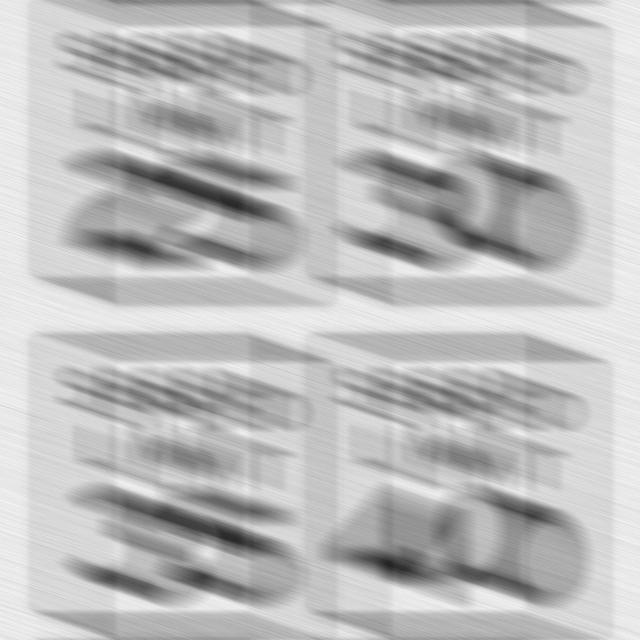speedLimit25: (50, 2, 308, 300)
speedLimit30: (329, 6, 586, 298)
speedLimit35: (54, 335, 310, 629)
speedLimit40: (328, 336, 588, 634)
